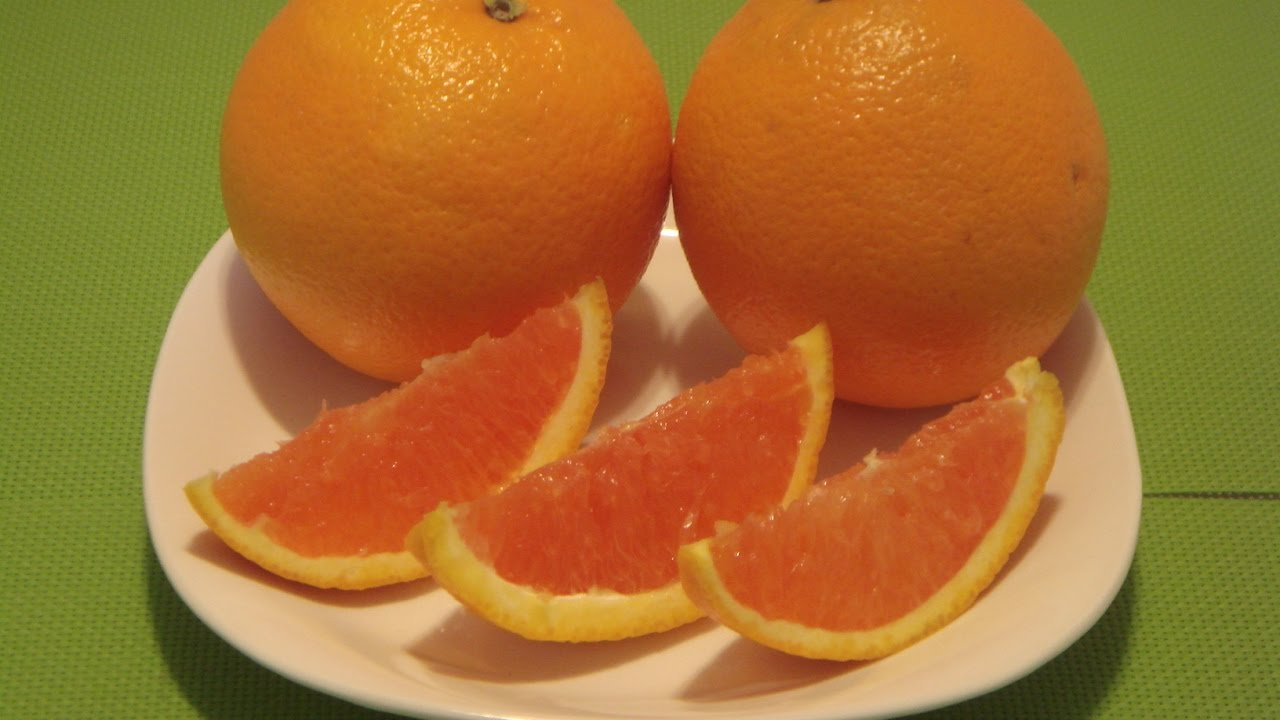orange: (200, 1, 688, 391), (676, 1, 1111, 405), (425, 319, 852, 659), (184, 269, 618, 600), (668, 355, 1127, 666)
